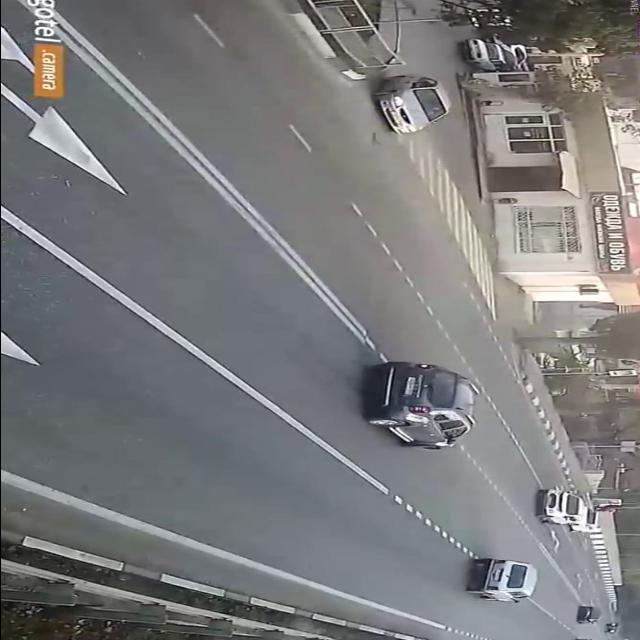non_accident: (526, 484, 608, 537)
